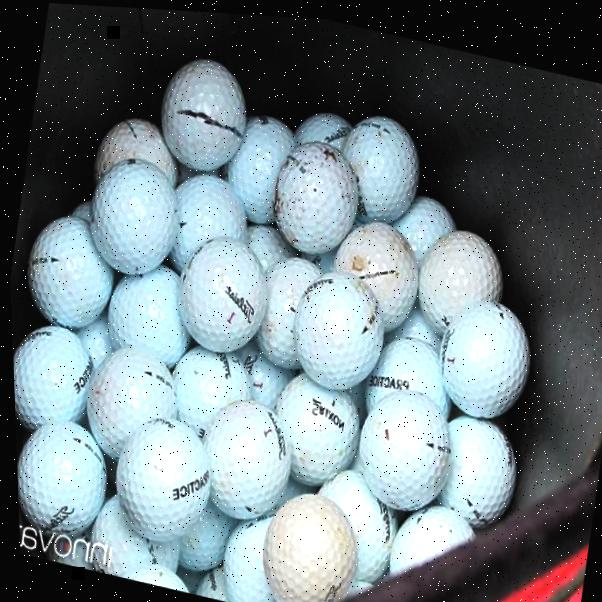GolfBall: (92, 396, 227, 556), (139, 31, 266, 190), (183, 378, 307, 535), (396, 207, 528, 351), (272, 250, 397, 398), (340, 370, 466, 515), (161, 215, 285, 357), (244, 474, 380, 602), (70, 141, 190, 286), (322, 94, 443, 237), (6, 198, 128, 339), (424, 278, 541, 421), (258, 124, 372, 262), (12, 403, 117, 550), (9, 308, 109, 452)
